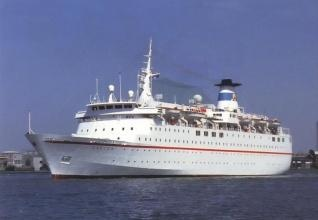youlun: (18, 52, 295, 181)
